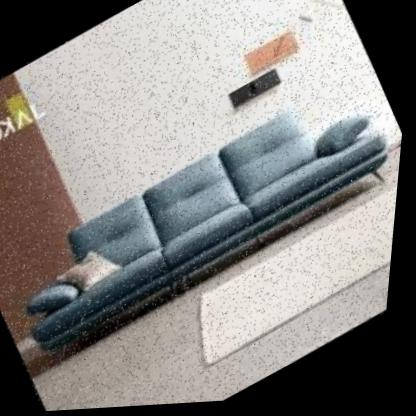Sofa: (0, 60, 410, 404)
